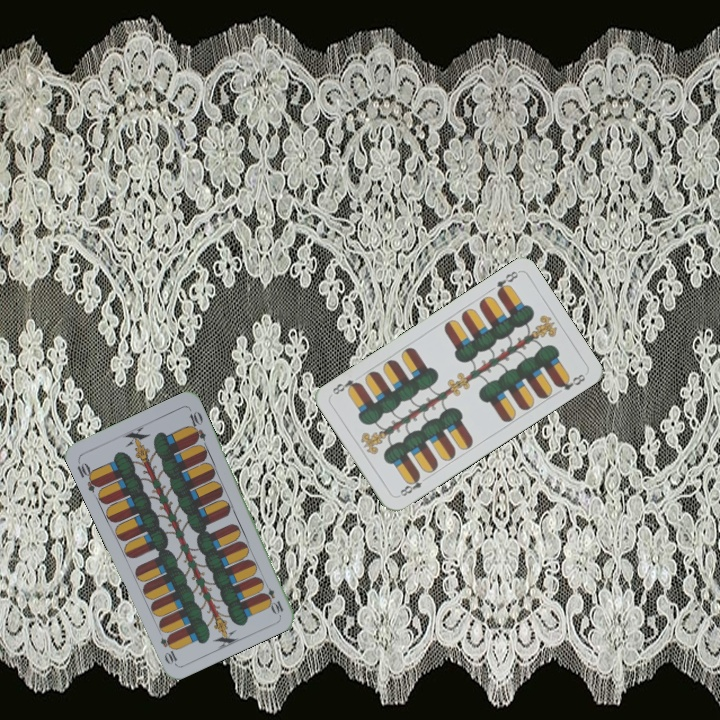E10: (73, 456, 102, 495), (259, 578, 286, 617)
E8: (394, 471, 431, 500), (492, 267, 521, 298)
